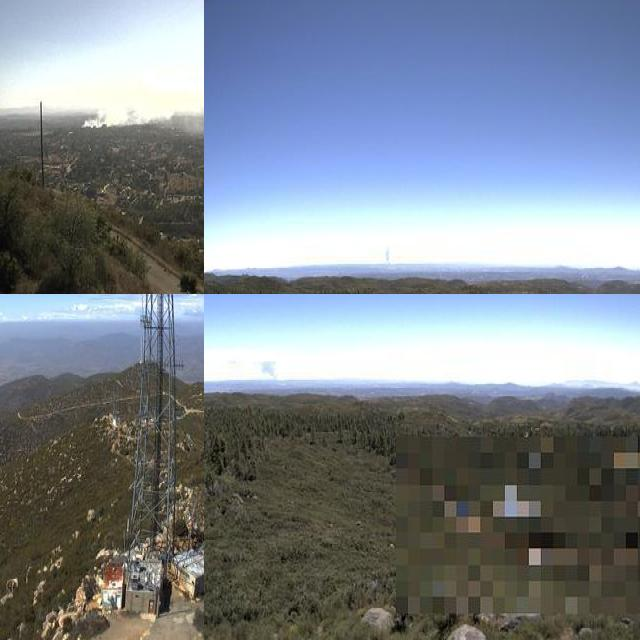smoke: (80, 74, 204, 138), (254, 357, 284, 383), (381, 248, 395, 264)
